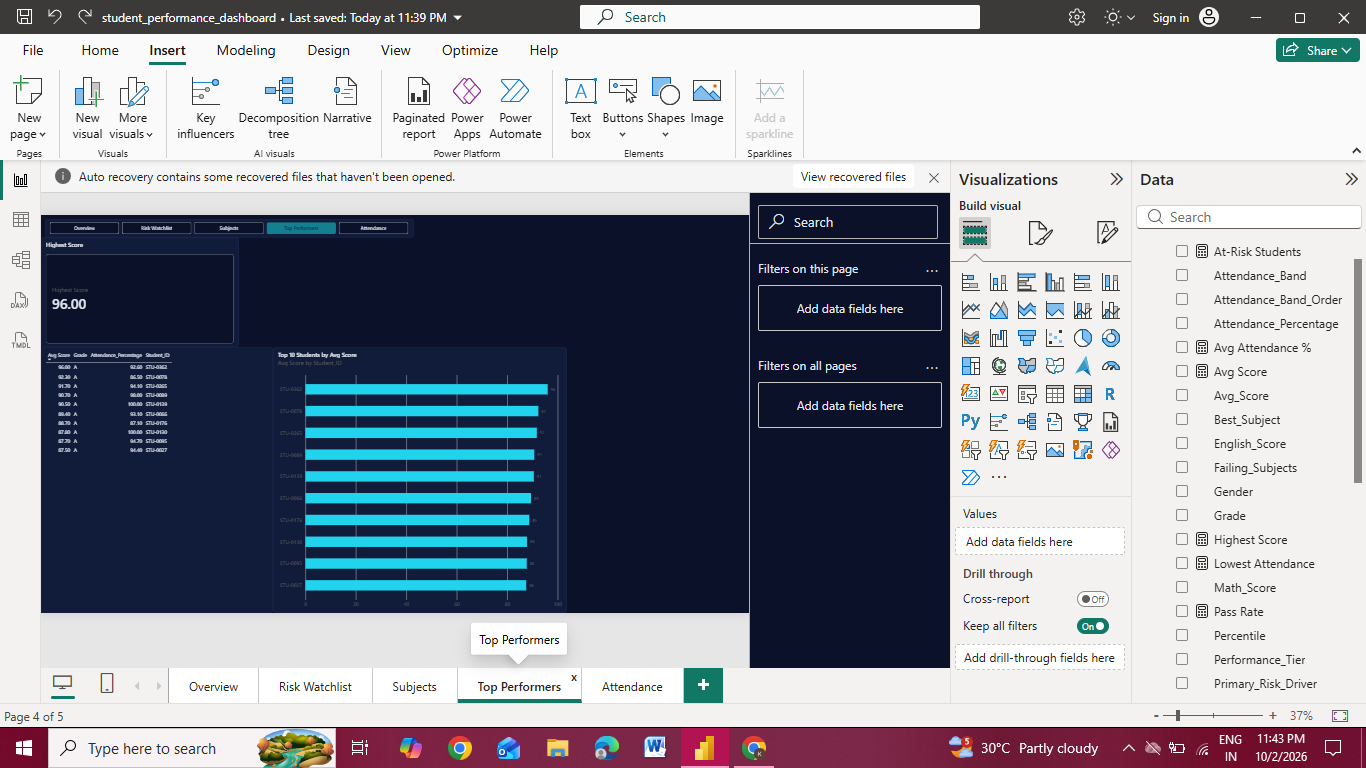

The page's visual inventory and layout, read from the dashboard file:
{"tool":"powerbi","page":{"name":"Top Performers","canvas":[1920,1080],"ordinal":3},"visuals":[{"type":"tableEx","fields":{"Values":["students.Avg Score","students.Grade","students.Attendance_Percentage","students.Student_ID"]},"box":[0,358,629.2,721.4],"z":0},{"type":"cardVisual","title":"Highest Score","fields":{"Data":["students.Highest Score"]},"box":[0,59.7,536.9,298.3],"z":1000},{"type":"clusteredBarChart","title":"Top 10 Students by Avg Score","fields":{"Category":["students.Student_ID"],"Y":["students.Avg Score"]},"box":[629.2,358,797.3,721.4],"z":2000},{"type":"pageNavigator","box":[10,10,1000,50],"z":2001}]}

Visuals, with their boxes on the page's 1920x1080 design canvas (x1, y1, x2, y2). These are canvas units, not pixel positions in the 1366x768 screenshot, which may show the page scaled, cropped or inside an application window:
tableEx - students.Avg Score x students.Grade: select_region(0, 358, 629, 1079)
"Highest Score" cardVisual: select_region(0, 60, 537, 358)
"Top 10 Students by Avg Score" clusteredBarChart: select_region(629, 358, 1426, 1079)
pageNavigator: select_region(10, 10, 1010, 60)
